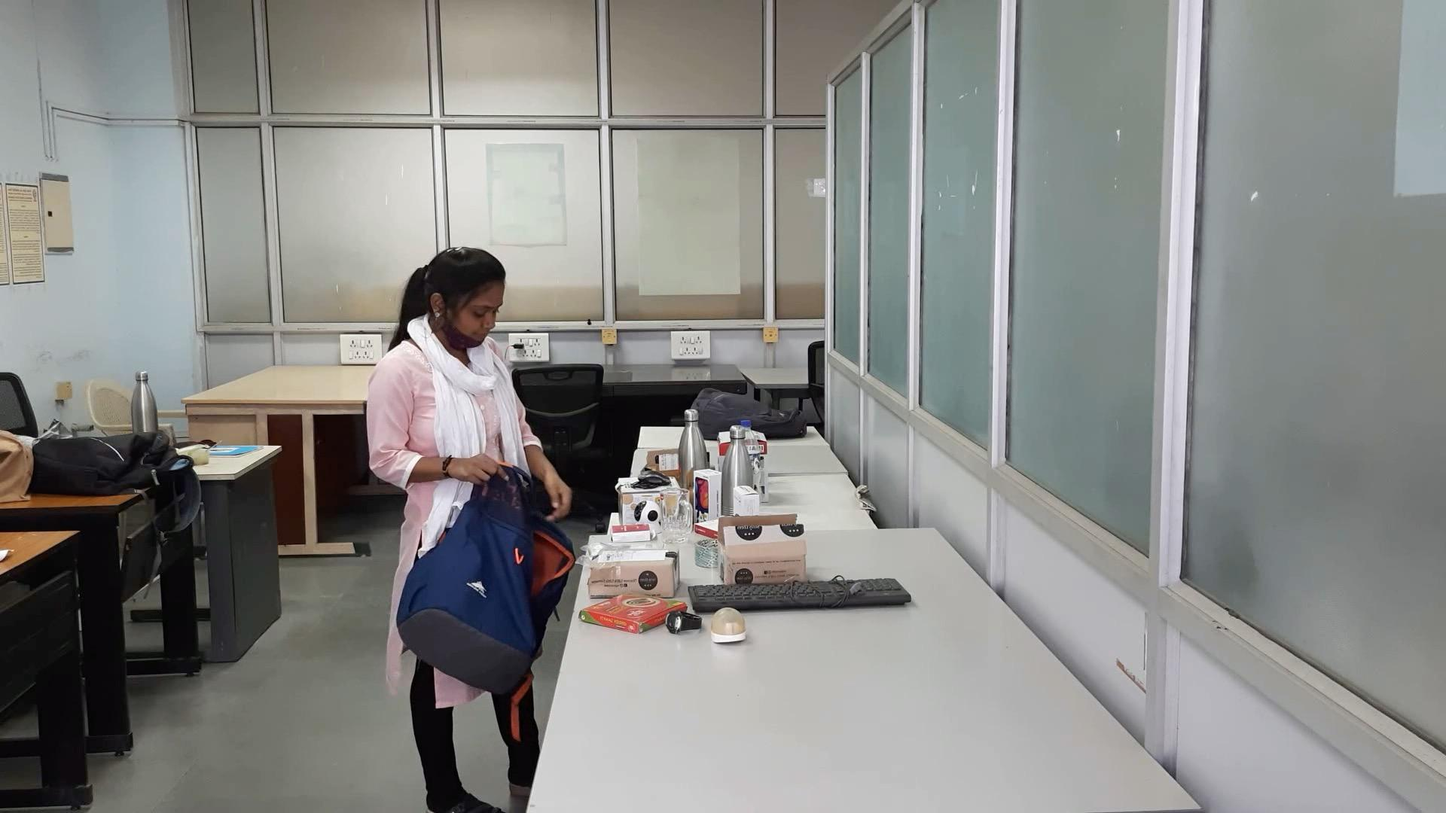shoplifting: (316, 431, 653, 699)
